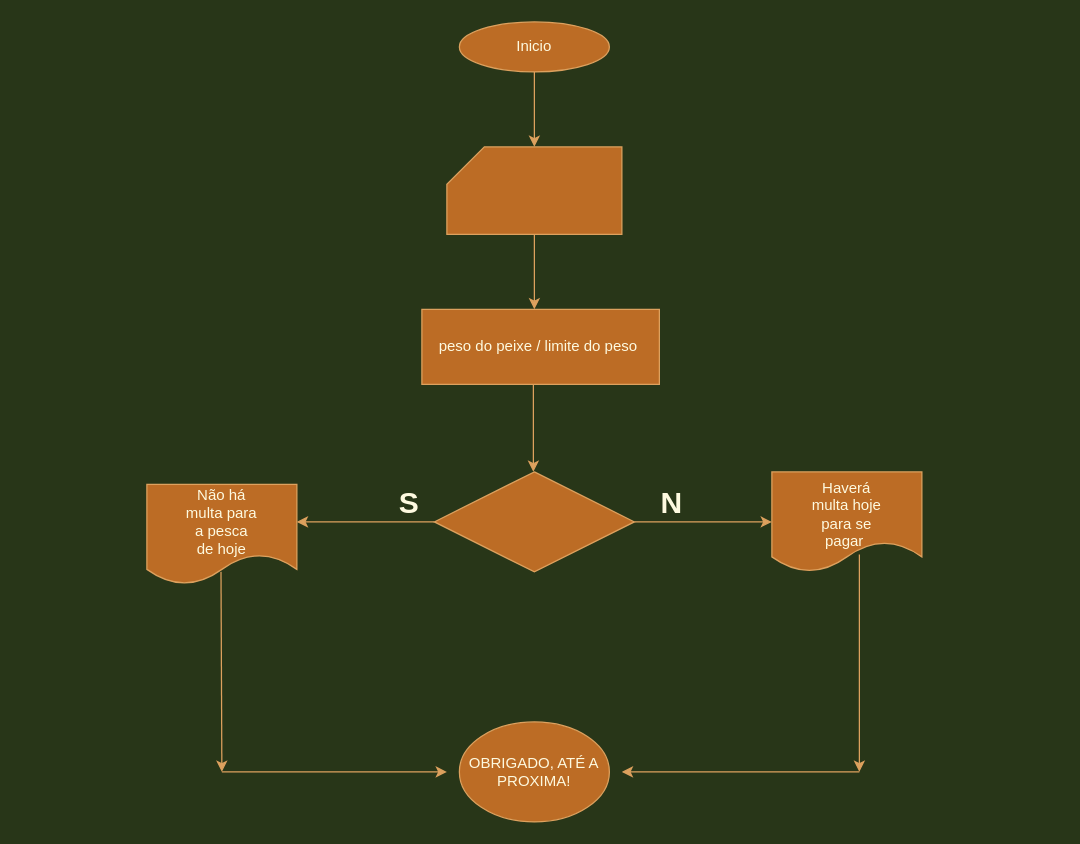
Image size: 1080x844. Some labels were removed from this diagram. The shapes that lost their labels are listed below. From the top down, each one's centre as x and y in pixels, then its label:
At pixel 534 190: "BEM VINDO SENHOR JÕAO".
At pixel 533 521: "peso >=50".
